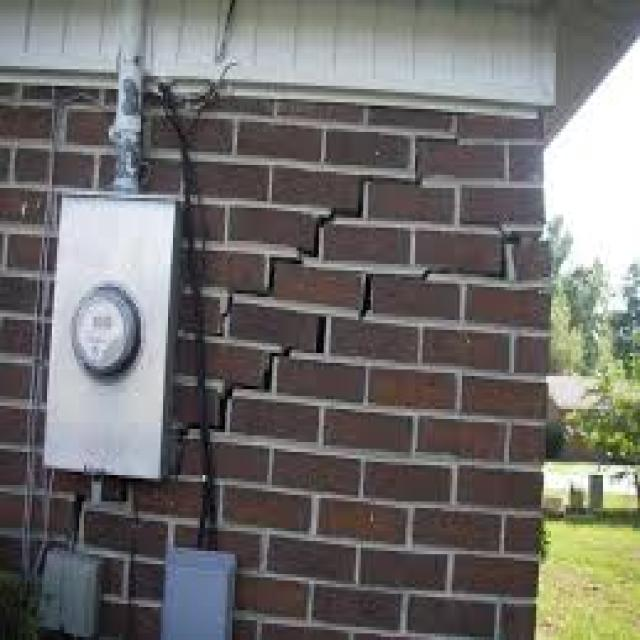Crack: (165, 221, 524, 468), (200, 109, 460, 340)
